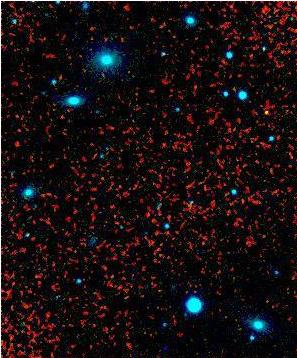star: (253, 98, 283, 128)
